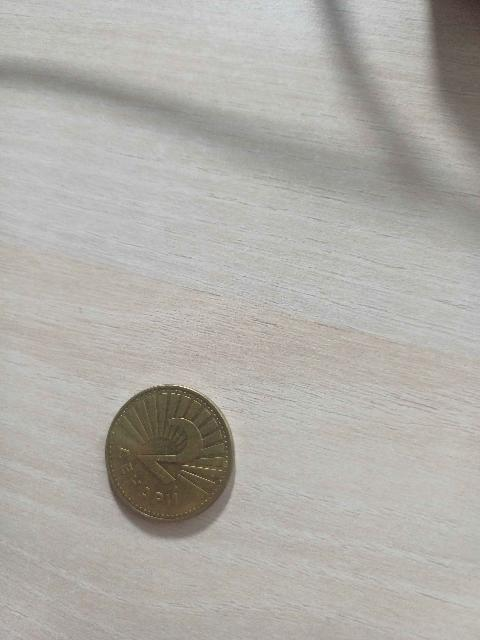2_coin: (106, 385, 233, 520)
